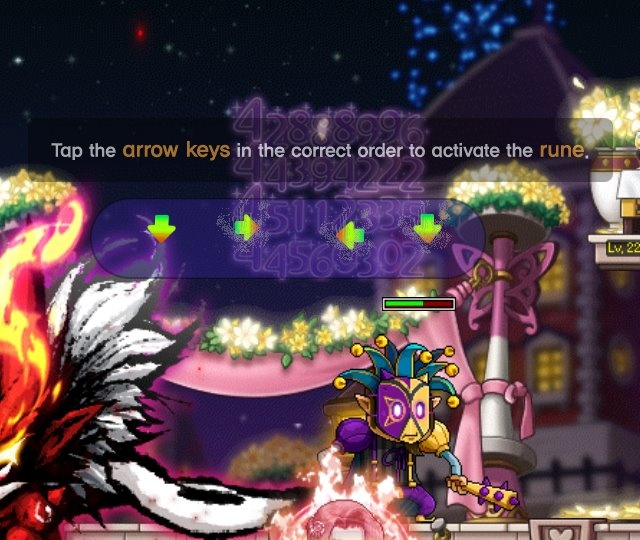rune_box: (81, 190, 498, 292)
